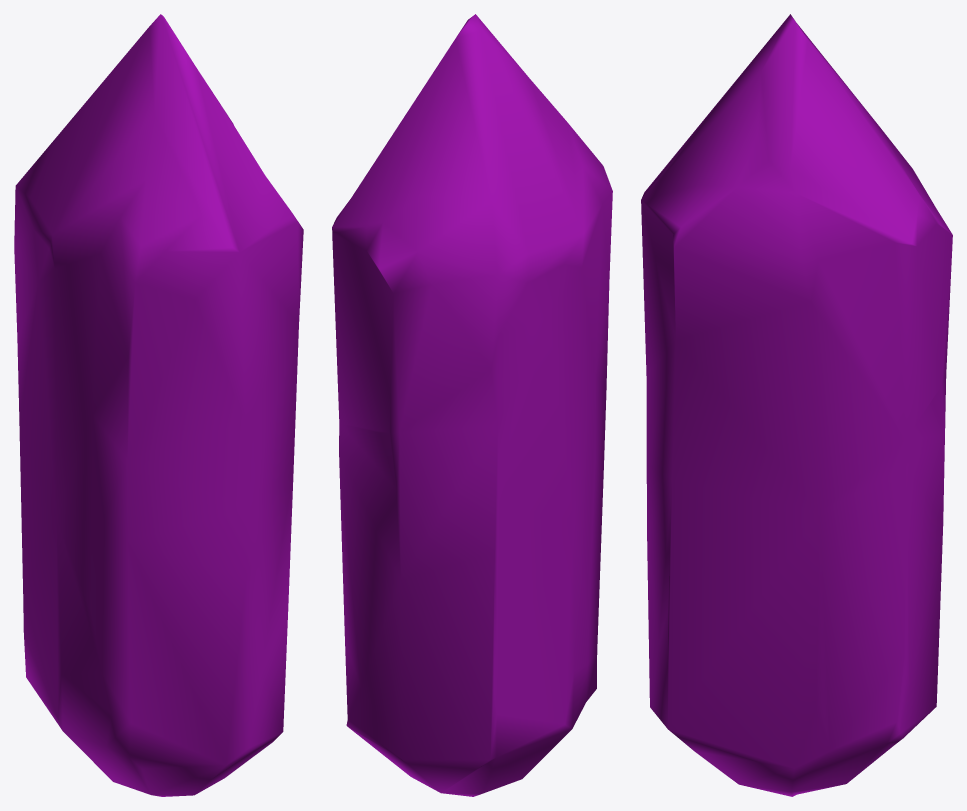
The model's file is Alchemy Crystal 8.fbx.
3 renders of one model, left to right at view 1: azimuth 30°, elevation 25°; view 2: azimuth 150°, elevation 25°; view 3: azimuth 270°, elevation 25°, orthographic.
Visible parts, largest first — view 1: Alchemy_Crystal_8; view 2: Alchemy_Crystal_8; view 3: Alchemy_Crystal_8.
Boxes of the visible parts, <box> form: Alchemy_Crystal_8: <box>14,14,303,796</box>; Alchemy_Crystal_8: <box>332,14,612,796</box>; Alchemy_Crystal_8: <box>641,14,952,796</box>.
Size of the model in its own units: 3.04 by 10.67 by 3.86.
1 material, 1 textured.
